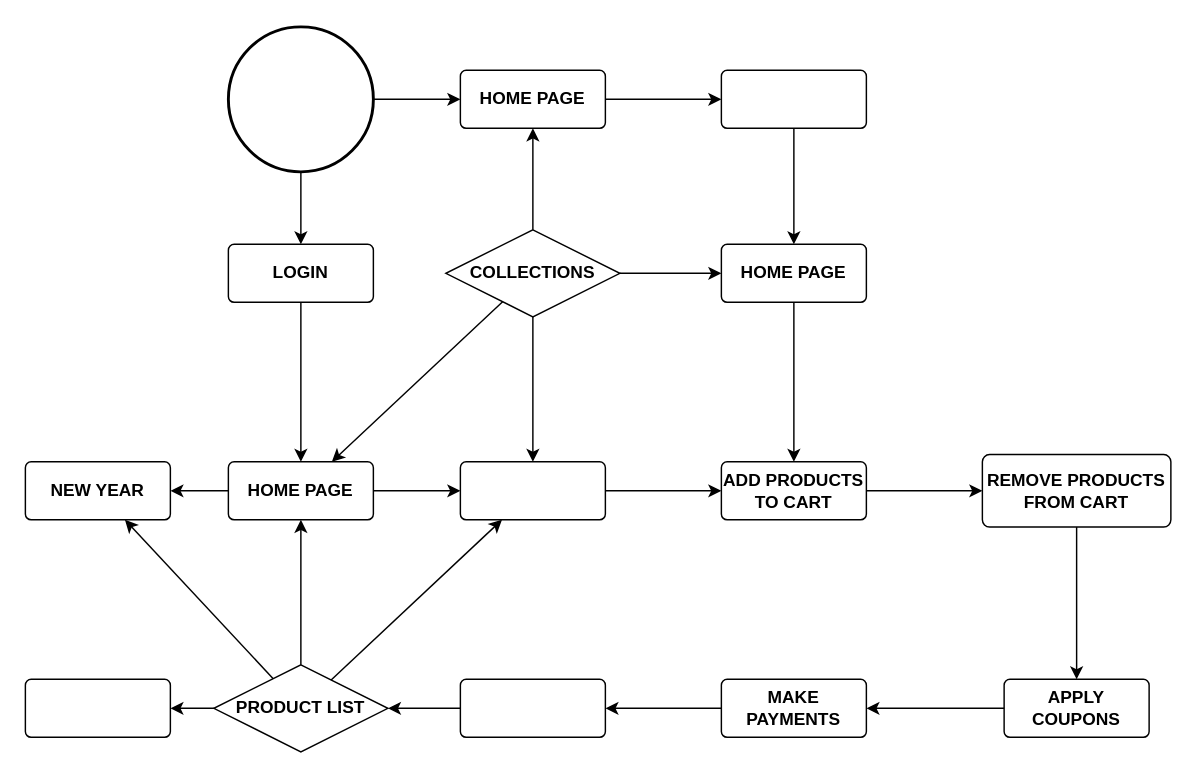
The diagram is 1196 pixels wide and 777 high, and some of its shapes have lost their labels. Here are the shapes that lost their labels. From the top down, the centre of each, then its label:
[300,99]: USER
[793,98]: REGISTER
[532,490]: VIEW PRODUCTS
[97,707]: THANK YOU
[532,707]: SIGN IN
